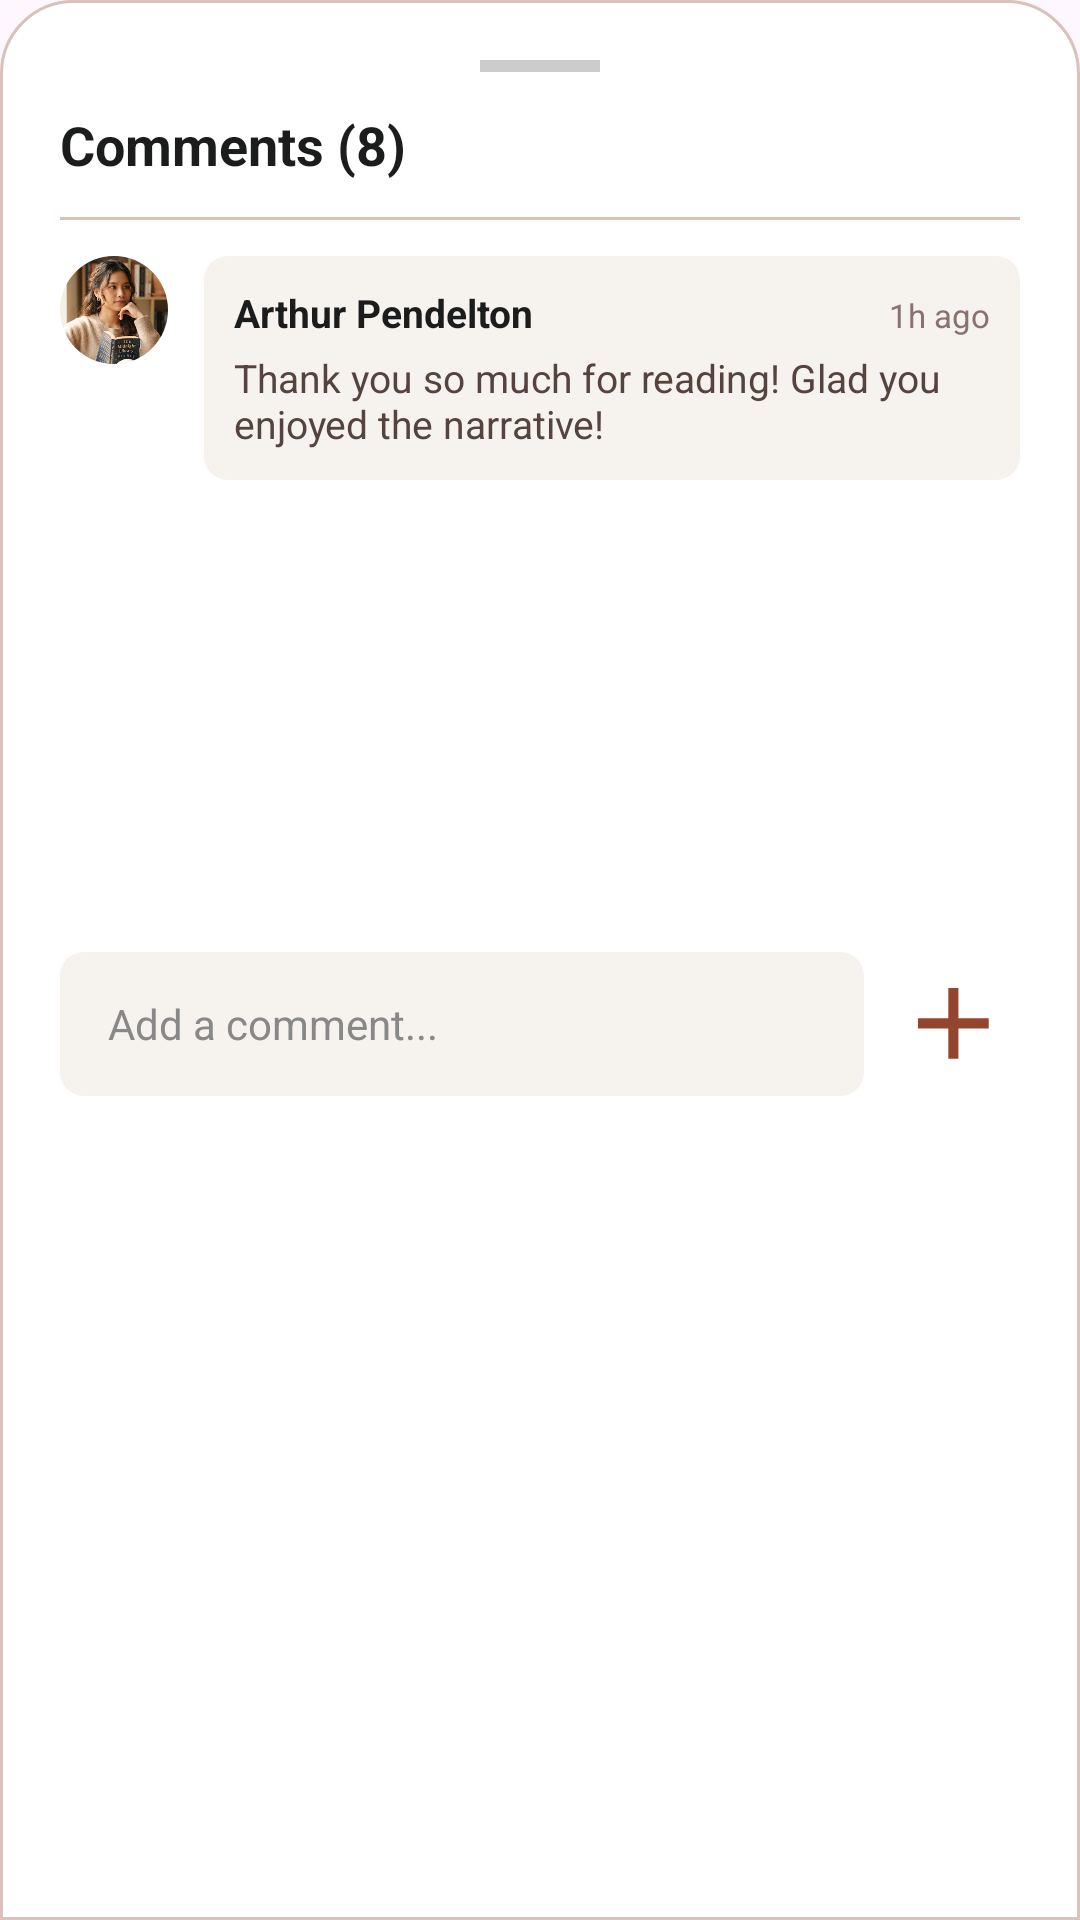

Icon bounding boxes for this 1080 × 1920 phone screenshot, format [x1,y1,x2,y2]:
create: [918,988,989,1059]
